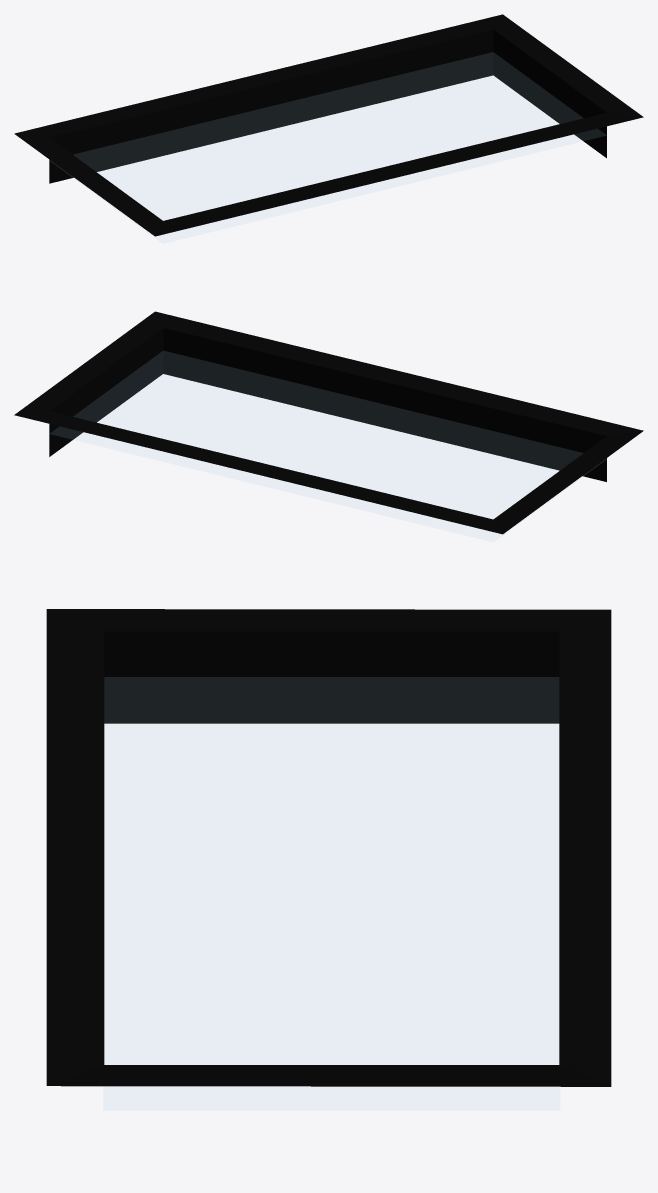
The model's file is Window02.fbx.
3 renders of one model, top to bottom at view 1: azimuth 30°, elevation 25°; view 2: azimuth 150°, elevation 25°; view 3: azimuth 270°, elevation 25°, orthographic. The views are drawn at different scales.
Visible parts, largest first — view 1: WindowPaneSmall; view 2: WindowPaneSmall; view 3: WindowPaneSmall.
Part boxes in pixels (x1,y1,x2,y2): WindowPaneSmall: (14, 14, 643, 242); WindowPaneSmall: (14, 311, 643, 541); WindowPaneSmall: (46, 609, 611, 1109).
Size of the model in its own units: 200 by 18.15 by 100.
